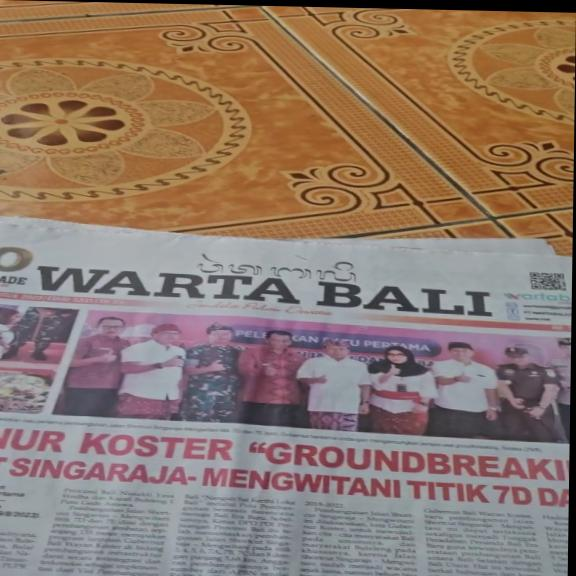Kertas: (0, 217, 559, 576)
